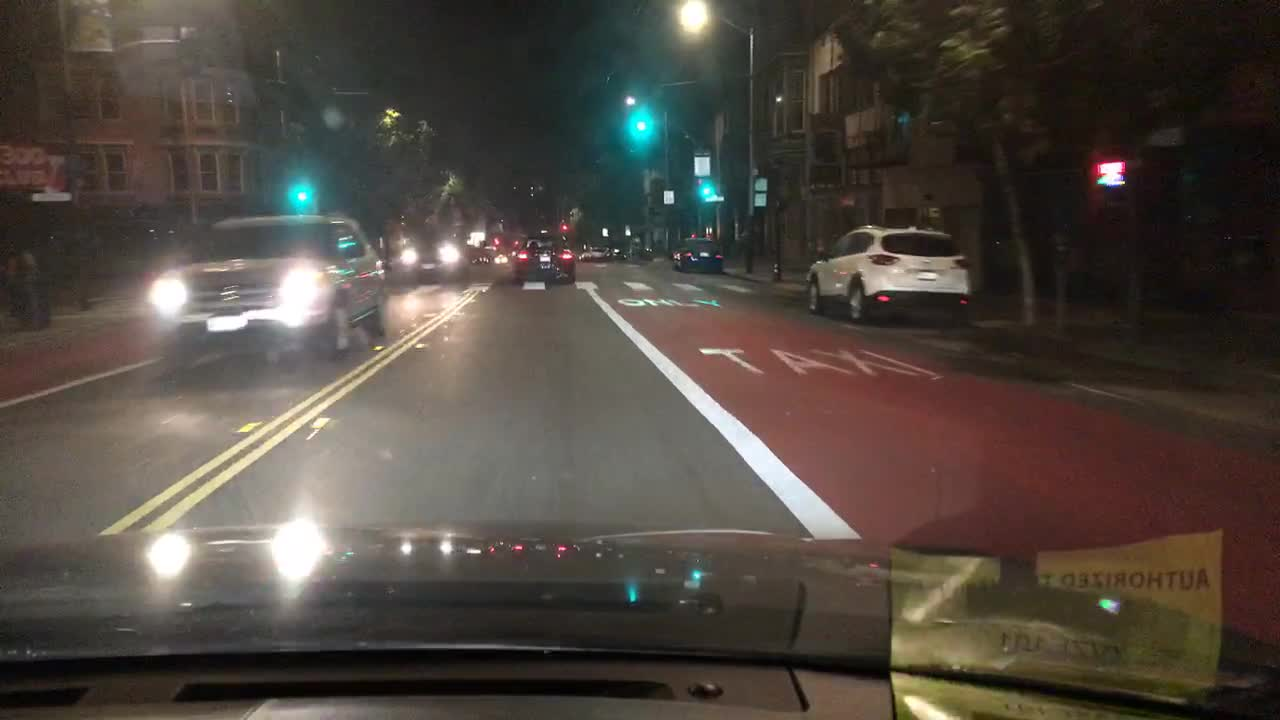car: (154, 212, 388, 375), (804, 223, 972, 329), (401, 229, 468, 279), (509, 237, 573, 286), (668, 237, 727, 275), (586, 242, 608, 264), (607, 245, 628, 262), (578, 245, 592, 262), (491, 252, 508, 264), (504, 247, 516, 259), (481, 253, 491, 267), (470, 254, 481, 265)
traffic light: (296, 188, 310, 202), (635, 117, 646, 133), (701, 187, 711, 197), (491, 237, 501, 247), (561, 222, 568, 232)
traffic sign: (29, 189, 70, 203), (693, 149, 712, 178), (660, 187, 675, 207), (753, 174, 768, 192), (700, 194, 725, 204), (753, 193, 768, 209), (599, 225, 609, 237)
